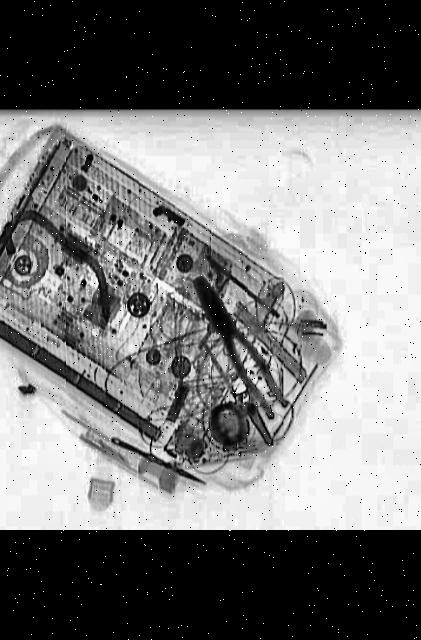Pliers: (182, 272, 298, 419)
